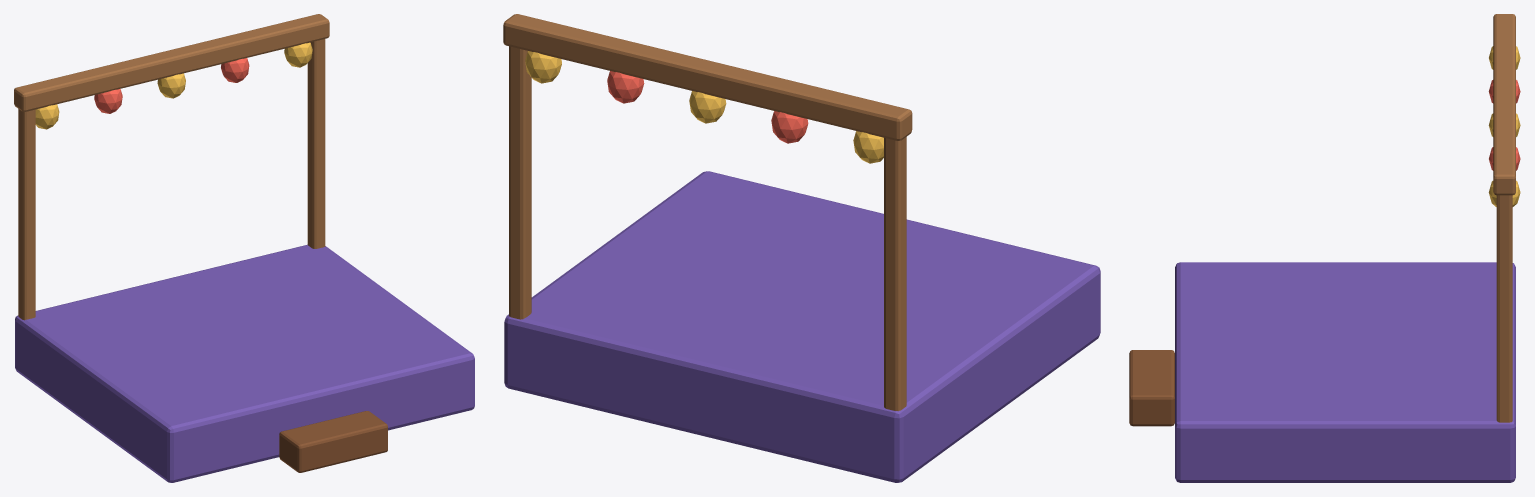
File: san-khau.glb
3 renders of one model, left to right at view 1: azimuth 30°, elevation 25°; view 2: azimuth 150°, elevation 25°; view 3: azimuth 270°, elevation 25°, orthographic. The views are drawn at different scales.
Parts seen in each view (by area): view 1: san-khau-0, san-khau-4, san-khau-1, san-khau-3, san-khau-2, san-khau-7, san-khau-8, san-khau-9, san-khau-6, san-khau-5; view 2: san-khau-0, san-khau-4, san-khau-2, san-khau-3, san-khau-7, san-khau-6, san-khau-8, san-khau-9, san-khau-5; view 3: san-khau-0, san-khau-4, san-khau-3, san-khau-1.
Boxes of the visible parts, x1=… form: san-khau-0: x1=15, y1=244, x2=474, y2=482; san-khau-4: x1=14, y1=14, x2=329, y2=111; san-khau-1: x1=279, y1=411, x2=387, y2=472; san-khau-3: x1=307, y1=39, x2=325, y2=248; san-khau-2: x1=18, y1=109, x2=35, y2=320; san-khau-7: x1=157, y1=73, x2=185, y2=98; san-khau-8: x1=221, y1=58, x2=249, y2=82; san-khau-9: x1=284, y1=42, x2=312, y2=67; san-khau-6: x1=94, y1=89, x2=122, y2=113; san-khau-5: x1=35, y1=104, x2=59, y2=129; san-khau-0: x1=504, y1=171, x2=1100, y2=482; san-khau-4: x1=503, y1=14, x2=912, y2=140; san-khau-2: x1=884, y1=137, x2=906, y2=411; san-khau-3: x1=509, y1=46, x2=531, y2=319; san-khau-7: x1=689, y1=91, x2=726, y2=123; san-khau-6: x1=771, y1=111, x2=808, y2=143; san-khau-8: x1=607, y1=71, x2=644, y2=103; san-khau-9: x1=525, y1=51, x2=561, y2=83; san-khau-5: x1=853, y1=131, x2=883, y2=163; san-khau-0: x1=1175, y1=262, x2=1515, y2=482; san-khau-4: x1=1493, y1=14, x2=1515, y2=195; san-khau-3: x1=1496, y1=195, x2=1512, y2=422; san-khau-1: x1=1129, y1=350, x2=1174, y2=426.
Size of the model in its own units: 3.4 by 3 by 3.44.
